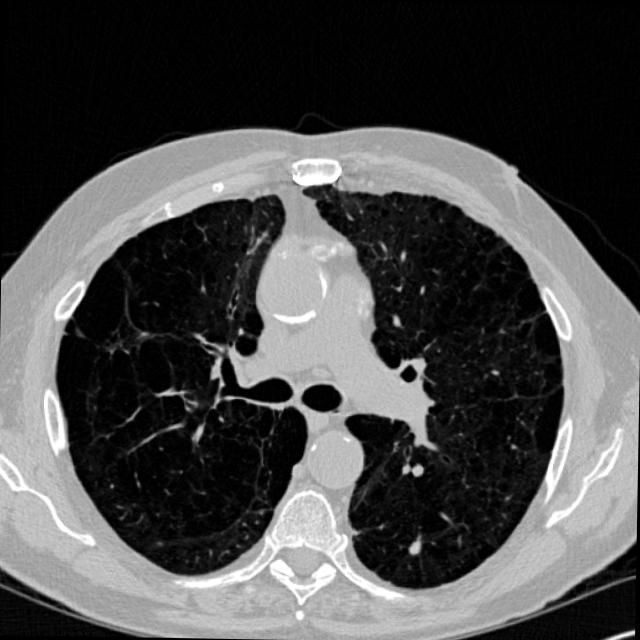nodule: (396, 526, 432, 562)
